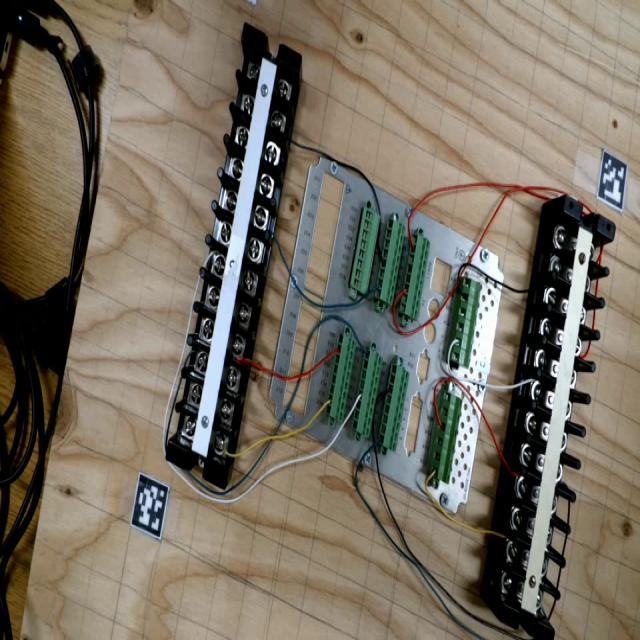Flathead_Block: (498, 195, 621, 640)
Phillips_Block: (162, 23, 309, 490)
Terminal_1: (428, 389, 464, 485), (448, 276, 483, 369)
Terminal_2: (323, 333, 359, 423), (372, 217, 408, 307), (376, 362, 411, 453), (350, 348, 385, 438), (398, 233, 432, 321)
